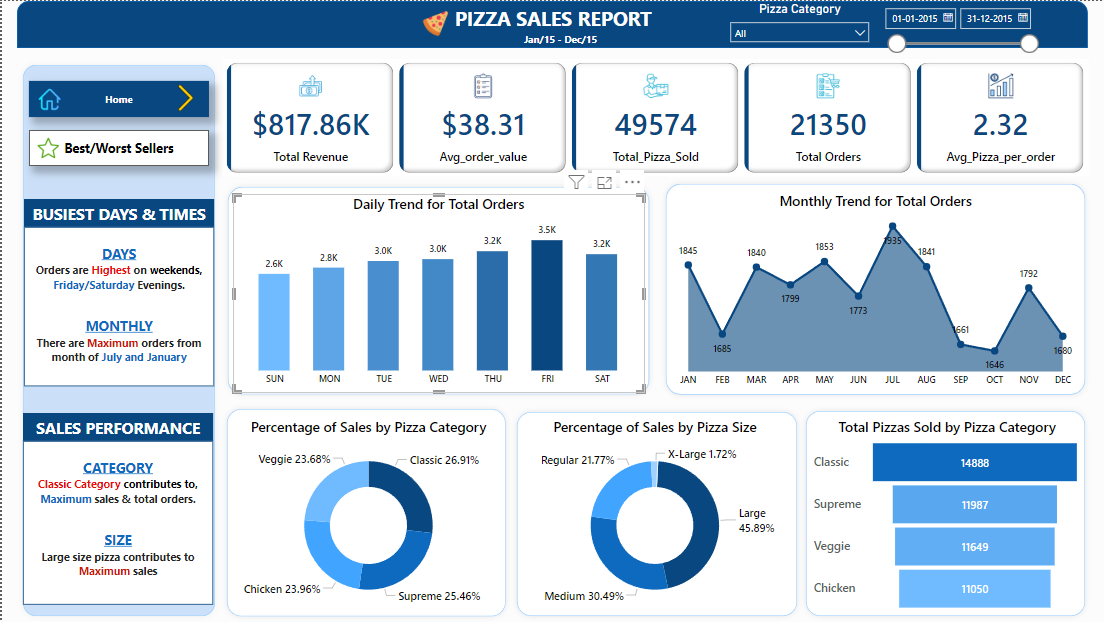

This screenshot's page, from the dashboard's own definition file:
{"tool":"powerbi","page":{"name":"Home","canvas":[1500,850],"ordinal":0},"visuals":[{"type":"cardVisual","fields":{"Data":["Measures (2).Total Revenue","Measures (2).Avg_order_value","Measures (2).Total_Pizza_Sold","Measures (2).Total Orders","Measures (2).Avg_Pizza_per_order"]},"box":[300.9,78.8,1178.8,160.3],"z":0},{"type":"shape","box":[21,0,1458.7,64.4],"z":1000},{"type":"textbox","box":[604.5,0,291.7,47.3],"z":2000},{"type":"textbox","box":[684.6,38.1,151.1,40.7],"z":3000},{"type":"image","box":[567.7,7.9,44.7,46],"z":4000},{"type":"shape","box":[300.3,245,590.1,298.8],"z":5000},{"type":"columnChart","title":"Daily Trend for Total Orders","fields":{"Category":["pizza_sales.Order Day"],"Y":["Measures (2).Total Orders"]},"box":[315.2,262.9,560.3,270.4],"z":6000},{"type":"shape","box":[896.4,240.5,587.2,303.3],"z":7000},{"type":"areaChart","title":"Monthly Trend for Total Orders","fields":{"Category":["pizza_sales.Order Month"],"Y":["Measures (2).Total Orders"]},"box":[911.4,258.5,557.3,274.9],"z":8000},{"type":"shape","box":[693.3,551.7,397.8,294.2],"z":9000},{"type":"donutChart","title":"Percentage of Sales by Pizza Size","fields":{"Category":["pizza_sales.pizza_size"],"Y":["Measures (2).Total Revenue"]},"box":[705.2,566.2,367.5,270.4],"z":10000},{"type":"shape","box":[298.8,548.2,395.9,298.8],"z":11000},{"type":"donutChart","title":"Percentage of Sales by Pizza Category","fields":{"Category":["pizza_sales.pizza_category"],"Y":["Measures (2).Total Revenue"]},"box":[315.2,566.2,369,270.4],"z":12000},{"type":"shape","box":[1087,550.3,396.4,295.6],"z":13000},{"type":"funnel","title":"Total Pizzas Sold by Pizza Category","fields":{"Category":["pizza_sales.pizza_category"],"Y":["Measures (2).Total_Pizza_Sold"]},"box":[1101.1,566.2,373.5,270.4],"z":14000},{"type":"shape","box":[20.4,79,277.9,766.9],"z":15000},{"type":"textbox","box":[30,270.1,258.8,38.1],"z":16000},{"type":"textbox","box":[30,307.9,258.8,216.6],"z":17000},{"type":"textbox","box":[29.1,561.7,258.8,38.1],"z":18000},{"type":"textbox","box":[28.6,599.4,258.8,223.4],"z":19000},{"type":"slicer","title":"Pizza Category","fields":{"Values":["pizza_sales.pizza_category"]},"box":[981.6,0,209.2,58.3],"z":20000},{"type":"slicer","title":"Pizza Category","fields":{"Values":["pizza_sales.order_date"]},"box":[1190.7,0,230.1,76.2],"z":21000},{"type":"pageNavigator","box":[37.4,176.3,245,49.3],"z":22000},{"type":"pageNavigator","box":[37.4,109.1,245,49.3],"z":23000},{"type":"image","box":[219.6,109.1,62.7,46.3],"z":24000},{"type":"image","box":[44.8,109.1,40.3,49.3],"z":25000},{"type":"image","box":[43.3,176.3,38.8,49.3],"z":26000}]}

Visuals, with their boxes in screenshot pixels (x1, y1, x2, y2), scaled from the page's 1500x850 canvas onto the 1104x622 screenshot:
cardVisual - Measures (2).Total Revenue x Measures (2).Avg_order_value: Rect(221, 58, 1089, 175)
shape: Rect(15, 0, 1089, 47)
textbox: Rect(445, 0, 660, 35)
textbox: Rect(504, 28, 615, 58)
image: Rect(418, 6, 451, 39)
shape: Rect(221, 179, 655, 398)
"Daily Trend for Total Orders" columnChart: Rect(232, 192, 644, 390)
shape: Rect(660, 176, 1092, 398)
"Monthly Trend for Total Orders" areaChart: Rect(671, 189, 1081, 390)
shape: Rect(510, 404, 803, 619)
"Percentage of Sales by Pizza Size" donutChart: Rect(519, 414, 790, 612)
shape: Rect(220, 401, 511, 620)
"Percentage of Sales by Pizza Category" donutChart: Rect(232, 414, 504, 612)
shape: Rect(800, 403, 1092, 619)
"Total Pizzas Sold by Pizza Category" funnel: Rect(810, 414, 1085, 612)
shape: Rect(15, 58, 220, 619)
textbox: Rect(22, 198, 213, 226)
textbox: Rect(22, 225, 213, 384)
textbox: Rect(21, 411, 212, 439)
textbox: Rect(21, 439, 212, 602)
"Pizza Category" slicer: Rect(722, 0, 876, 43)
"Pizza Category" slicer: Rect(876, 0, 1046, 56)
pageNavigator: Rect(28, 129, 208, 165)
pageNavigator: Rect(28, 80, 208, 116)
image: Rect(162, 80, 208, 114)
image: Rect(33, 80, 63, 116)
image: Rect(32, 129, 60, 165)
